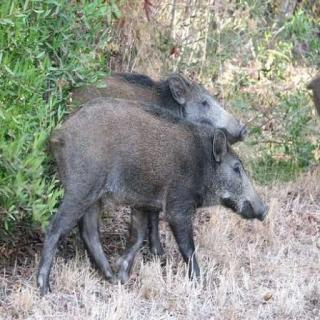Pig: (57, 53, 284, 316), (94, 52, 253, 154)
